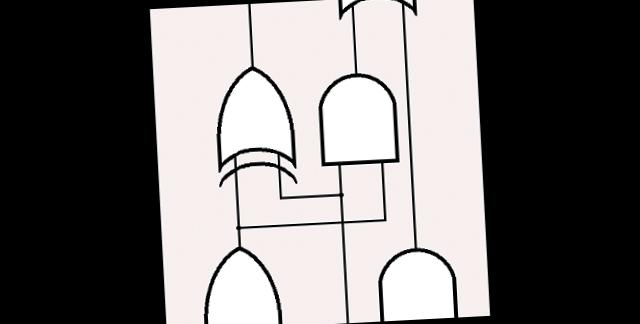and: (311, 64, 403, 171), (371, 237, 464, 322)
or: (333, 0, 422, 23)
xor: (208, 57, 303, 192), (195, 237, 288, 324)
